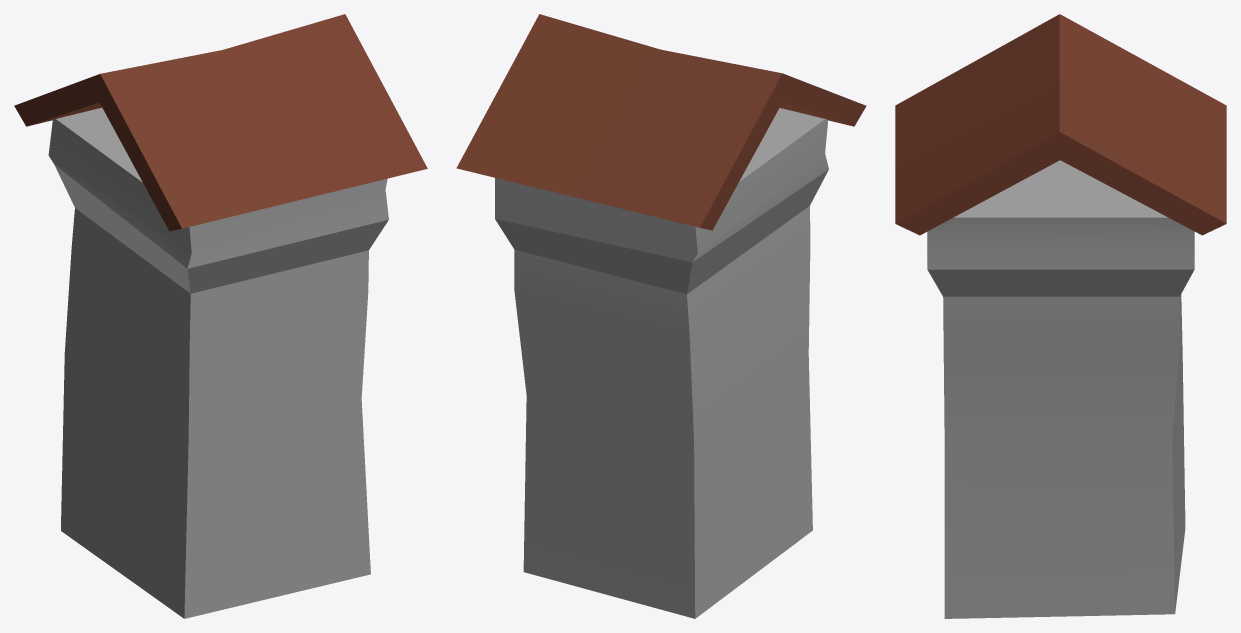
Rendered from SM_BuildingChimney_01.fbx.
3 views of the same model, side by side, from view 1: azimuth 30°, elevation 25°; view 2: azimuth 150°, elevation 25°; view 3: azimuth 270°, elevation 25° (orthographic).
Visible parts, largest first — view 1: polySurface1255; view 2: polySurface1255; view 3: polySurface1255.
Boxes of the visible parts, box(x1,y1,x2,y2) form: polySurface1255: box(14, 14, 427, 618); polySurface1255: box(456, 14, 866, 618); polySurface1255: box(895, 14, 1226, 618).
Bounding box in the file's own units: 237 × 467 × 279.
